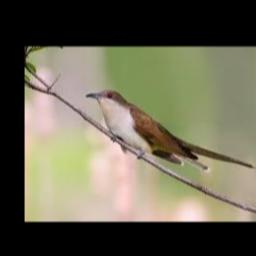Cuckoo: (85, 90, 256, 172)
